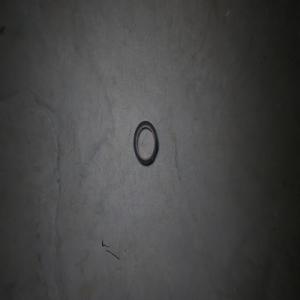Tape: (132, 120, 158, 166)
